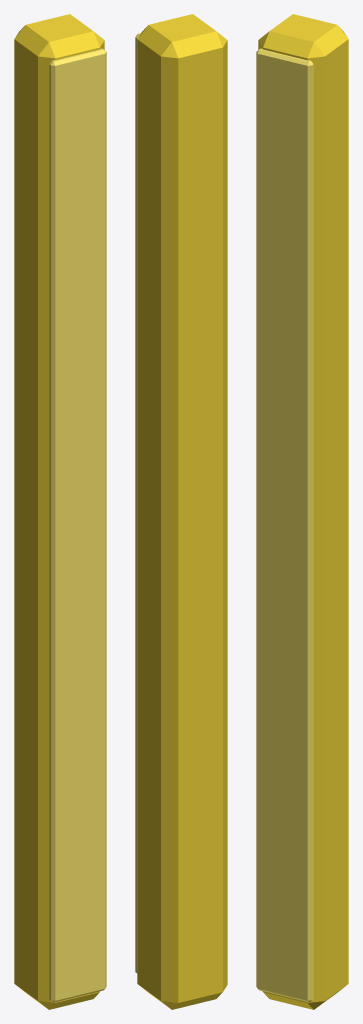
File: danmuji.glb
3 renders of one model, left to right at view 1: azimuth 30°, elevation 25°; view 2: azimuth 210°, elevation 25°; view 3: azimuth 330°, elevation 25°, orthographic.
Visible parts, largest first — view 1: moist_cut_side, danmuji_strip; view 2: danmuji_strip, moist_cut_side; view 3: moist_cut_side, danmuji_strip.
Boxes of the visible parts, x1,y1,x2,y2 form: moist_cut_side: (49, 48, 106, 1002); danmuji_strip: (14, 14, 104, 1009); danmuji_strip: (137, 14, 227, 1009); moist_cut_side: (135, 33, 140, 973); moist_cut_side: (256, 48, 313, 1002); danmuji_strip: (258, 14, 348, 1009).
Bounding box in the file's own units: 0.072 × 0.998 × 0.073.
